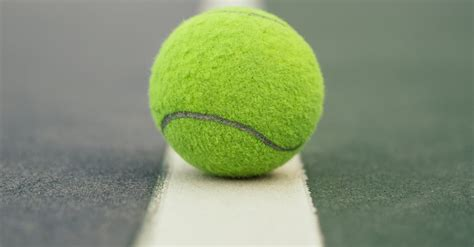tennis_ball: (148, 4, 325, 180)
